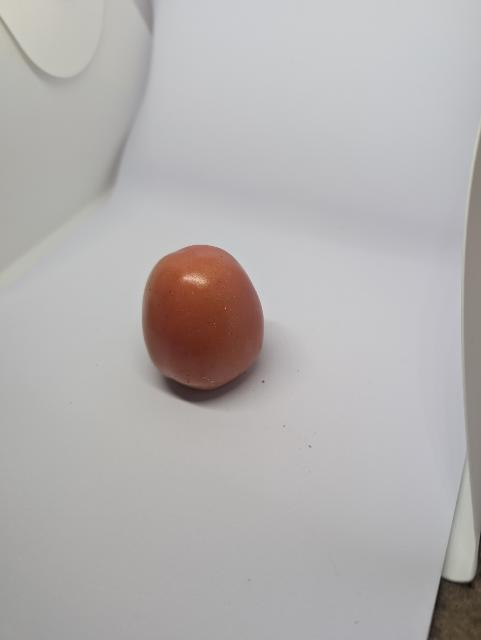red: (126, 239, 303, 403)
